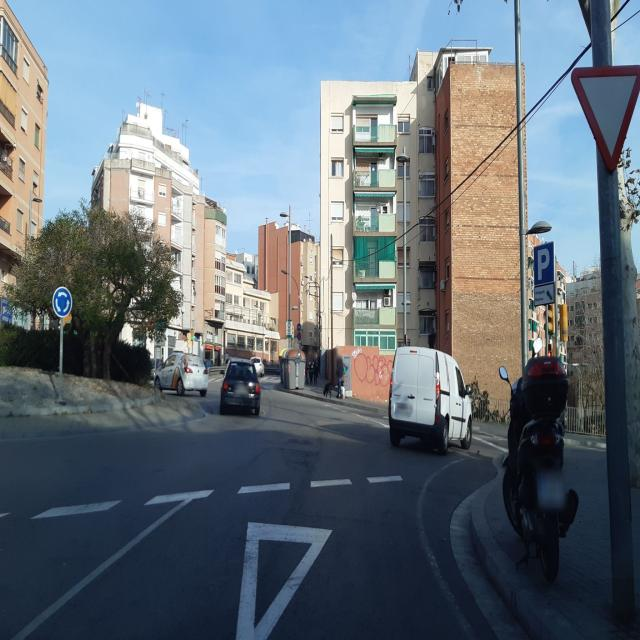forb_stopping: (297, 332, 302, 341)
